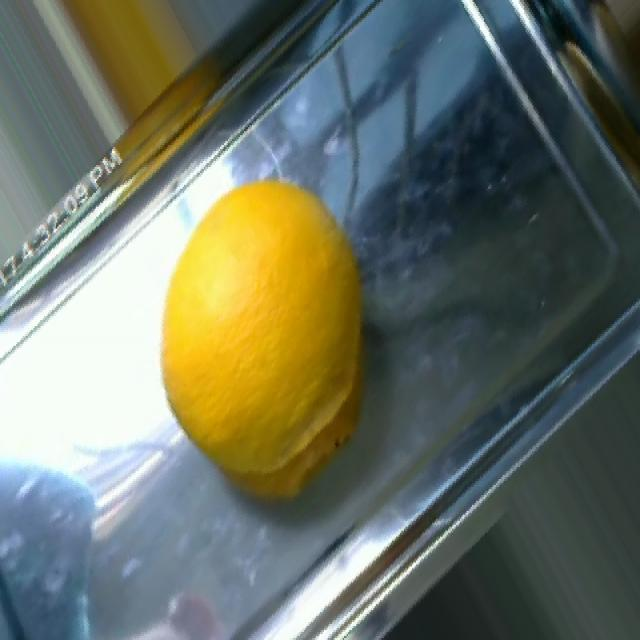Fruit: (147, 147, 370, 515)
